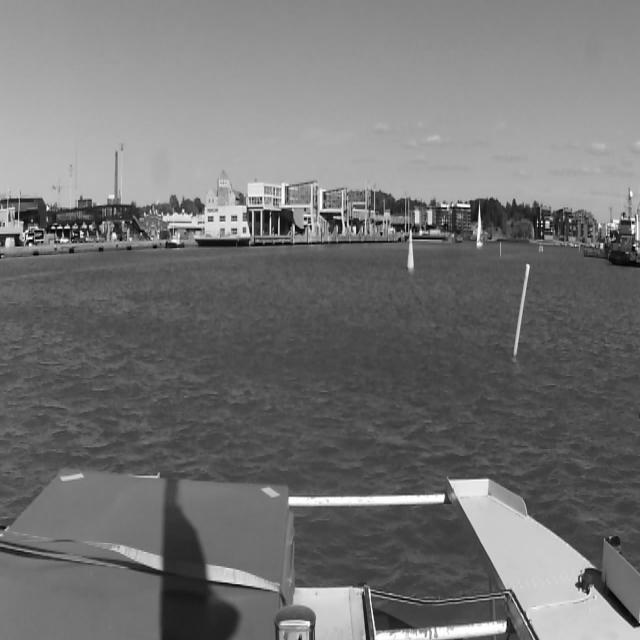buoy: (508, 260, 532, 362), (404, 225, 417, 272), (498, 241, 502, 258)
ship: (603, 186, 640, 264), (475, 198, 484, 251), (165, 228, 185, 250), (538, 243, 544, 254)
